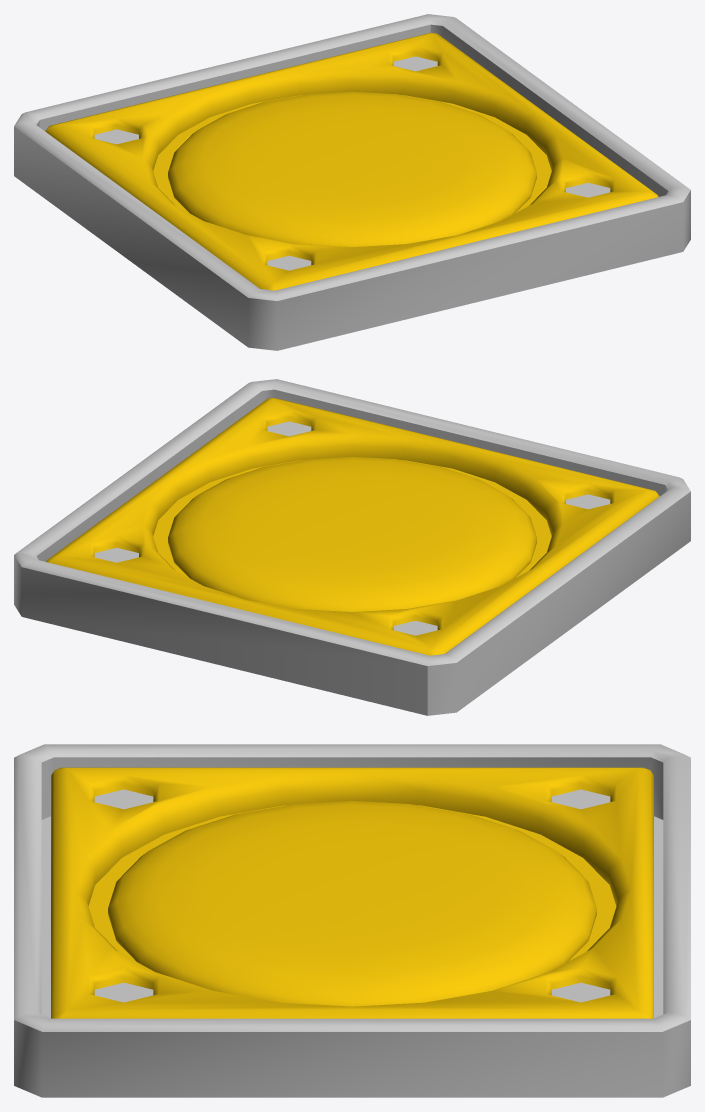
File: flippanelreverse.dae
The picture shows the model from 3 angles, top to bottom: view 1: azimuth 30°, elevation 25°; view 2: azimuth 150°, elevation 25°; view 3: azimuth 270°, elevation 25°; orthographic projection. The views are drawn at different scales.
Parts seen in each view (by area): view 1: n0b0, n2b2, n1b1; view 2: n0b0, n2b2, n1b1; view 3: n0b0, n2b2, n1b1.
Boxes of the visible parts, <box> form: n0b0: <box>14,14,690,350</box>; n2b2: <box>168,91,536,246</box>; n1b1: <box>45,33,658,290</box>; n0b0: <box>14,379,690,715</box>; n2b2: <box>168,456,536,611</box>; n1b1: <box>46,398,659,655</box>; n0b0: <box>14,744,690,1097</box>; n2b2: <box>108,801,596,1006</box>; n1b1: <box>51,767,653,1018</box>.
Bounding box in the file's own units: 800 × 100 × 800.
